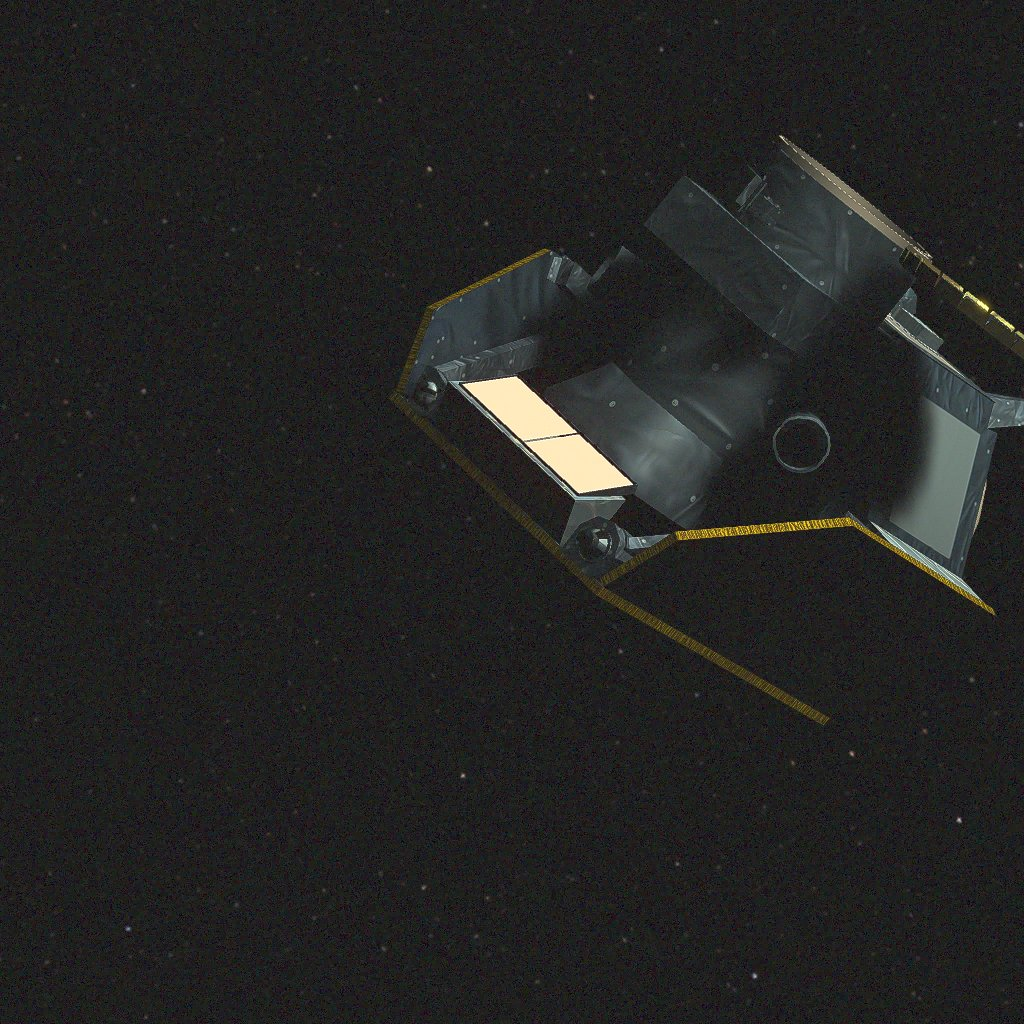cheops: (389, 135, 1024, 726)
